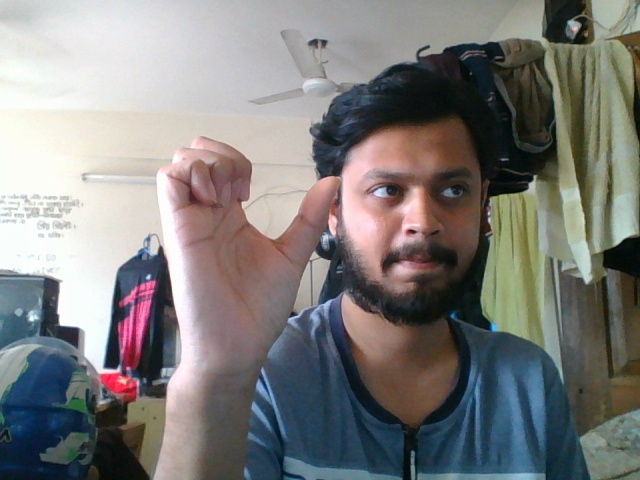kha: (150, 130, 349, 404)
